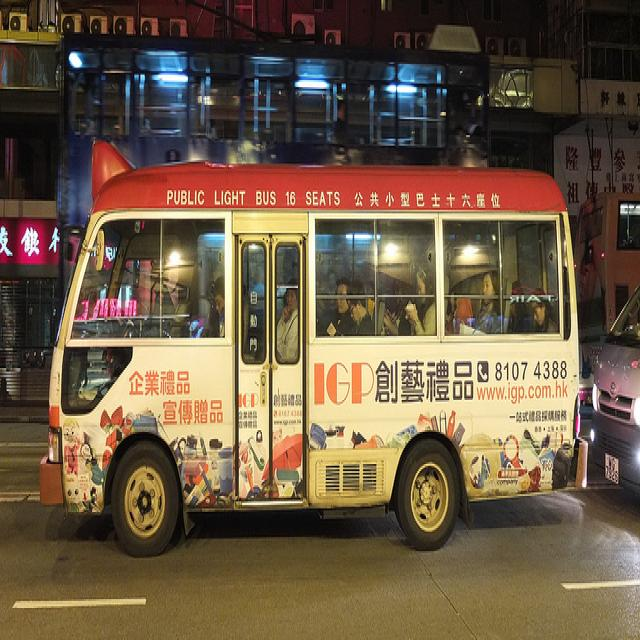Vehicle: (35, 125, 591, 558), (591, 288, 640, 489)
